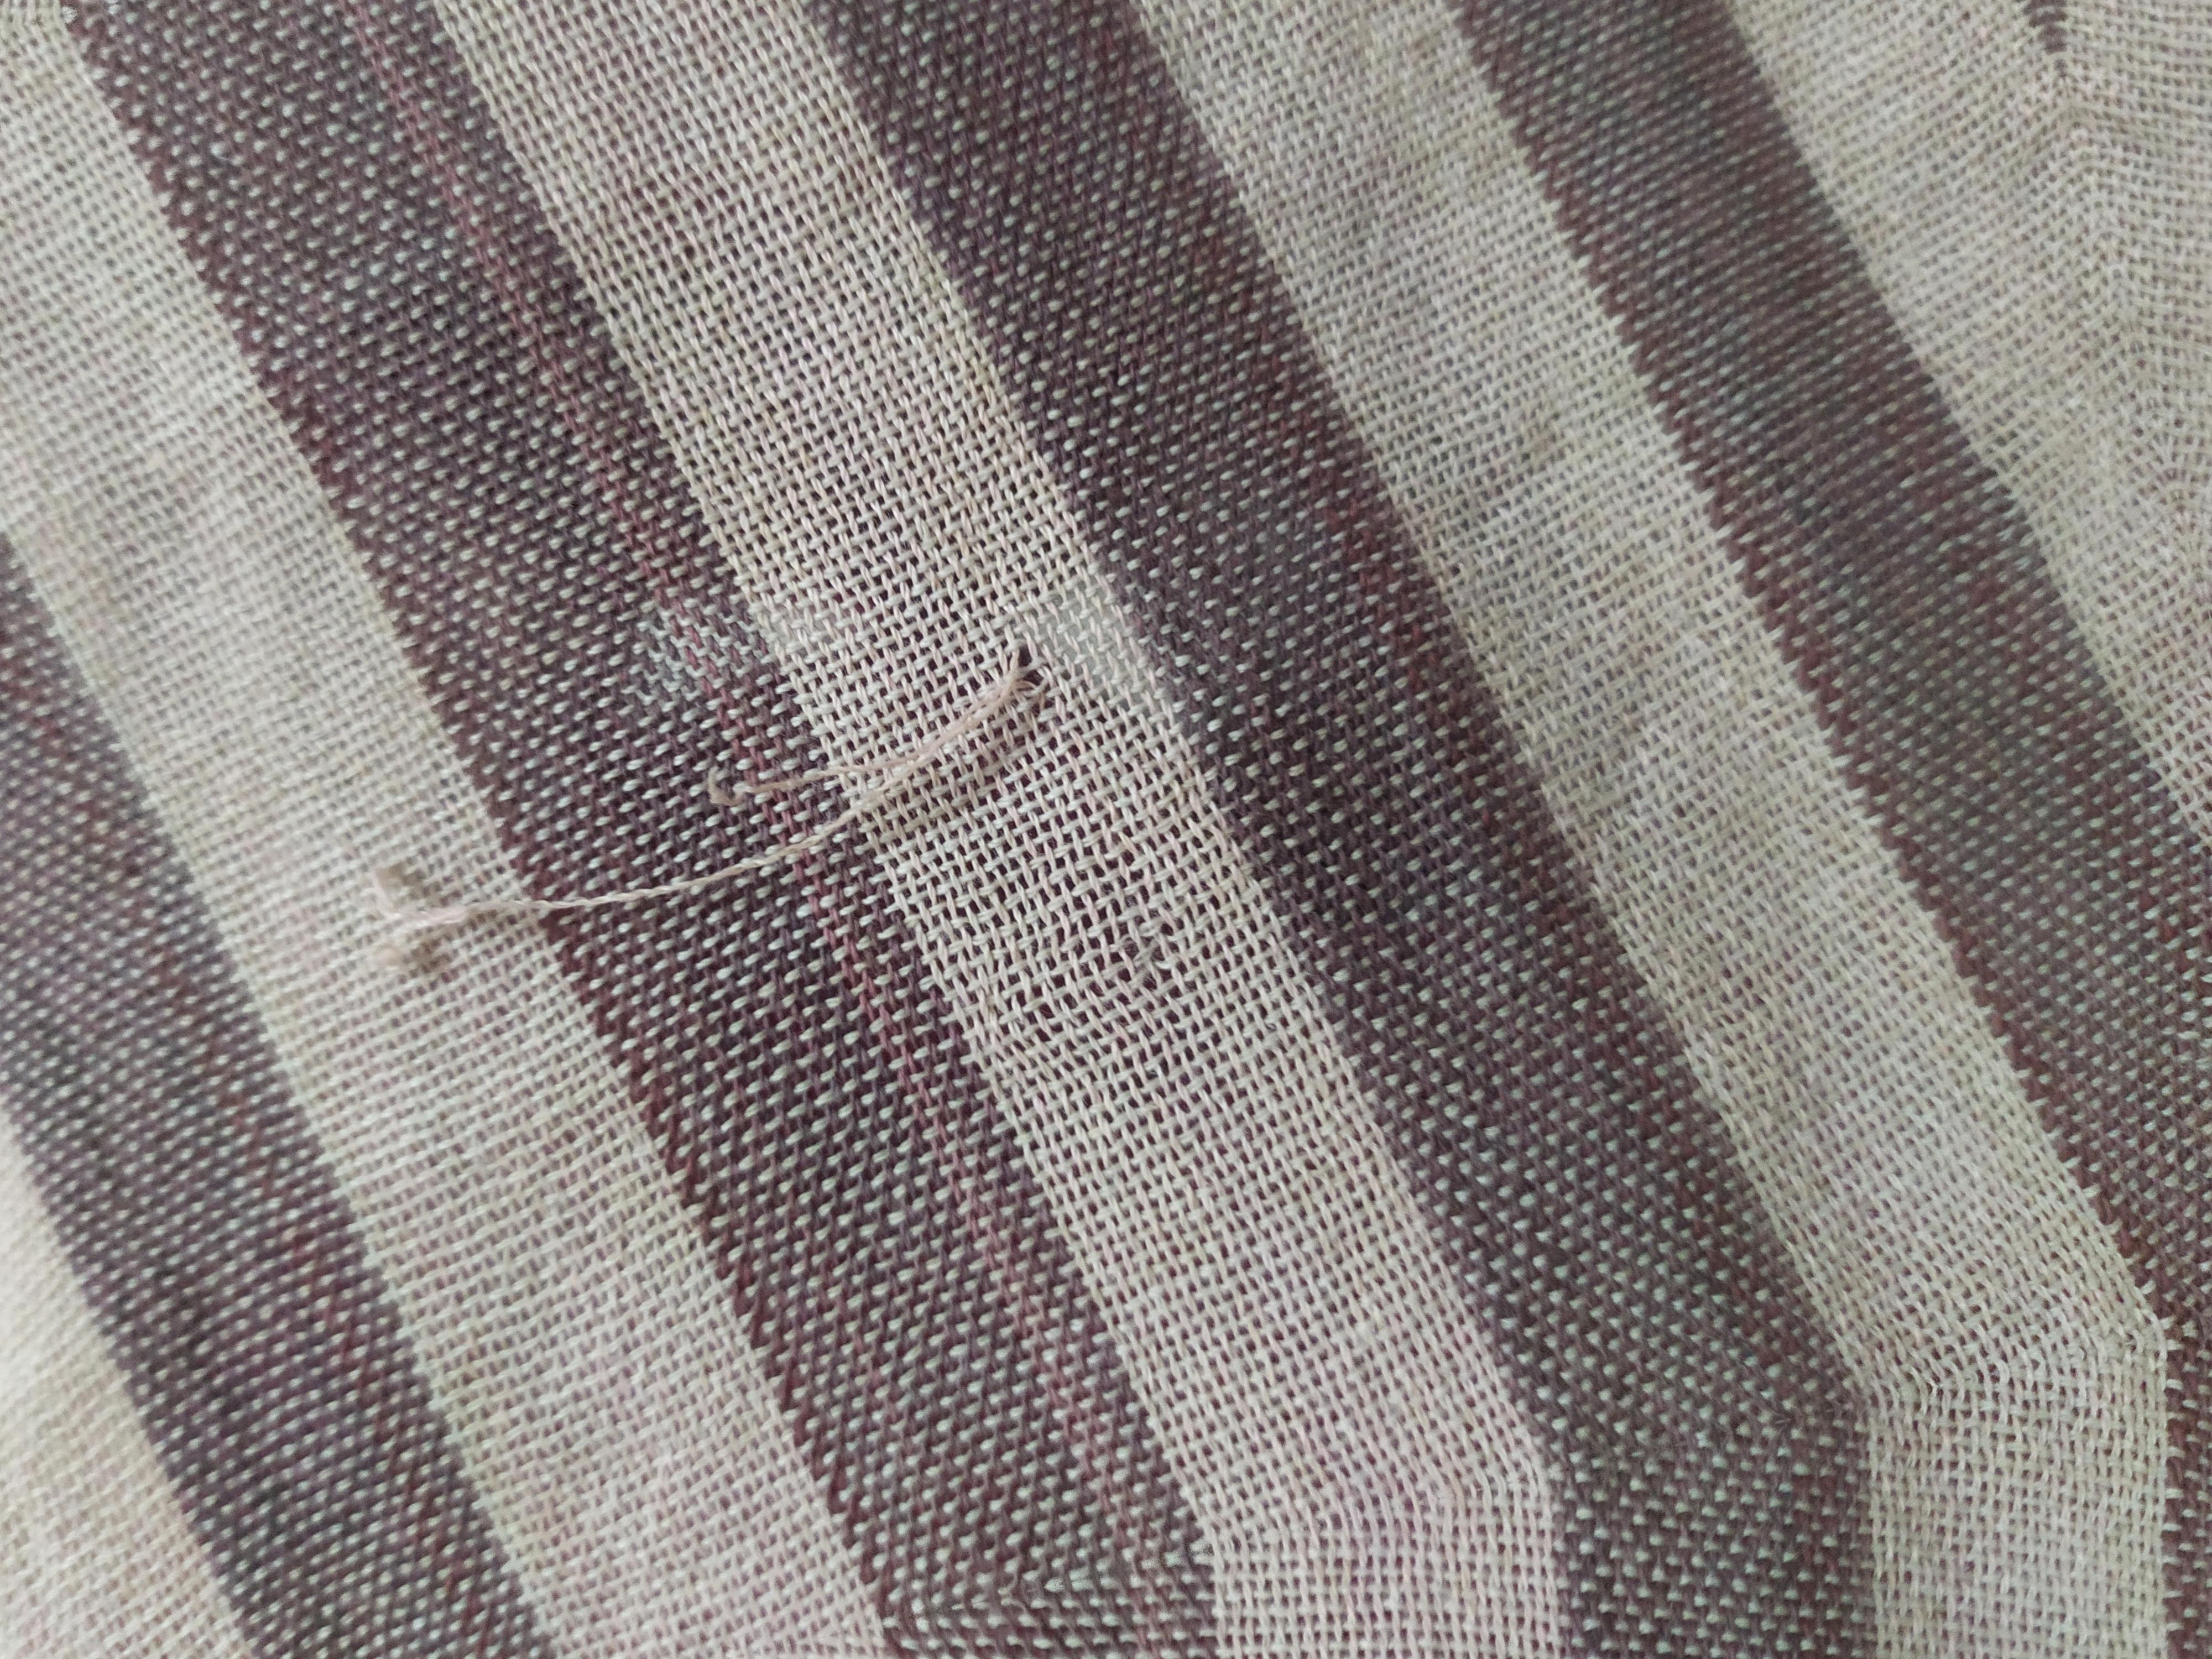snag: (368, 629, 1061, 1053)
